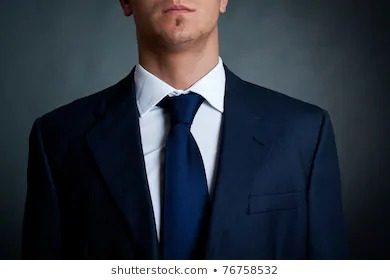F_tie: (149, 87, 215, 261)
